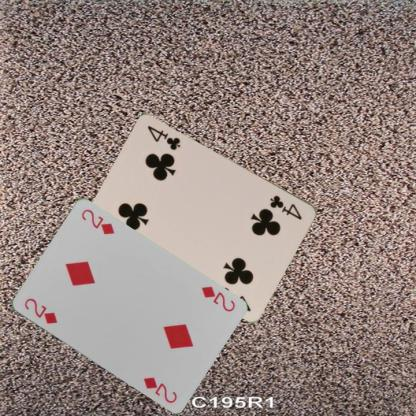2d: (198, 283, 236, 313), (22, 296, 58, 326)
4c: (267, 192, 303, 222)
